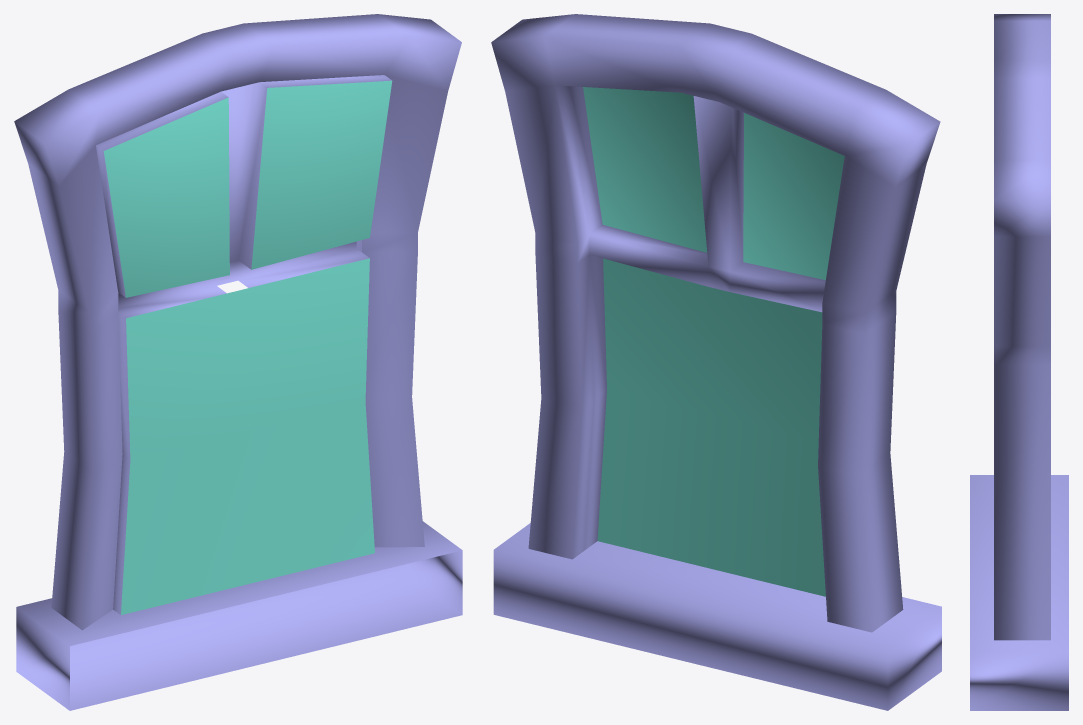
File: Building_A_7.fbx
3 views of the same model, side by side, from view 1: azimuth 30°, elevation 25°; view 2: azimuth 150°, elevation 25°; view 3: azimuth 270°, elevation 25° (orthographic). The views are drawn at different scales.
Visible parts, largest first — view 1: Building_A_7; view 2: Building_A_7; view 3: Building_A_7.
Boxes of the visible parts, box(x1,y1,x2,y2) form: Building_A_7: box(14, 14, 462, 710); Building_A_7: box(491, 14, 941, 710); Building_A_7: box(970, 14, 1068, 710).
Bounding box in the file's own units: 102 × 141 × 22.71.
